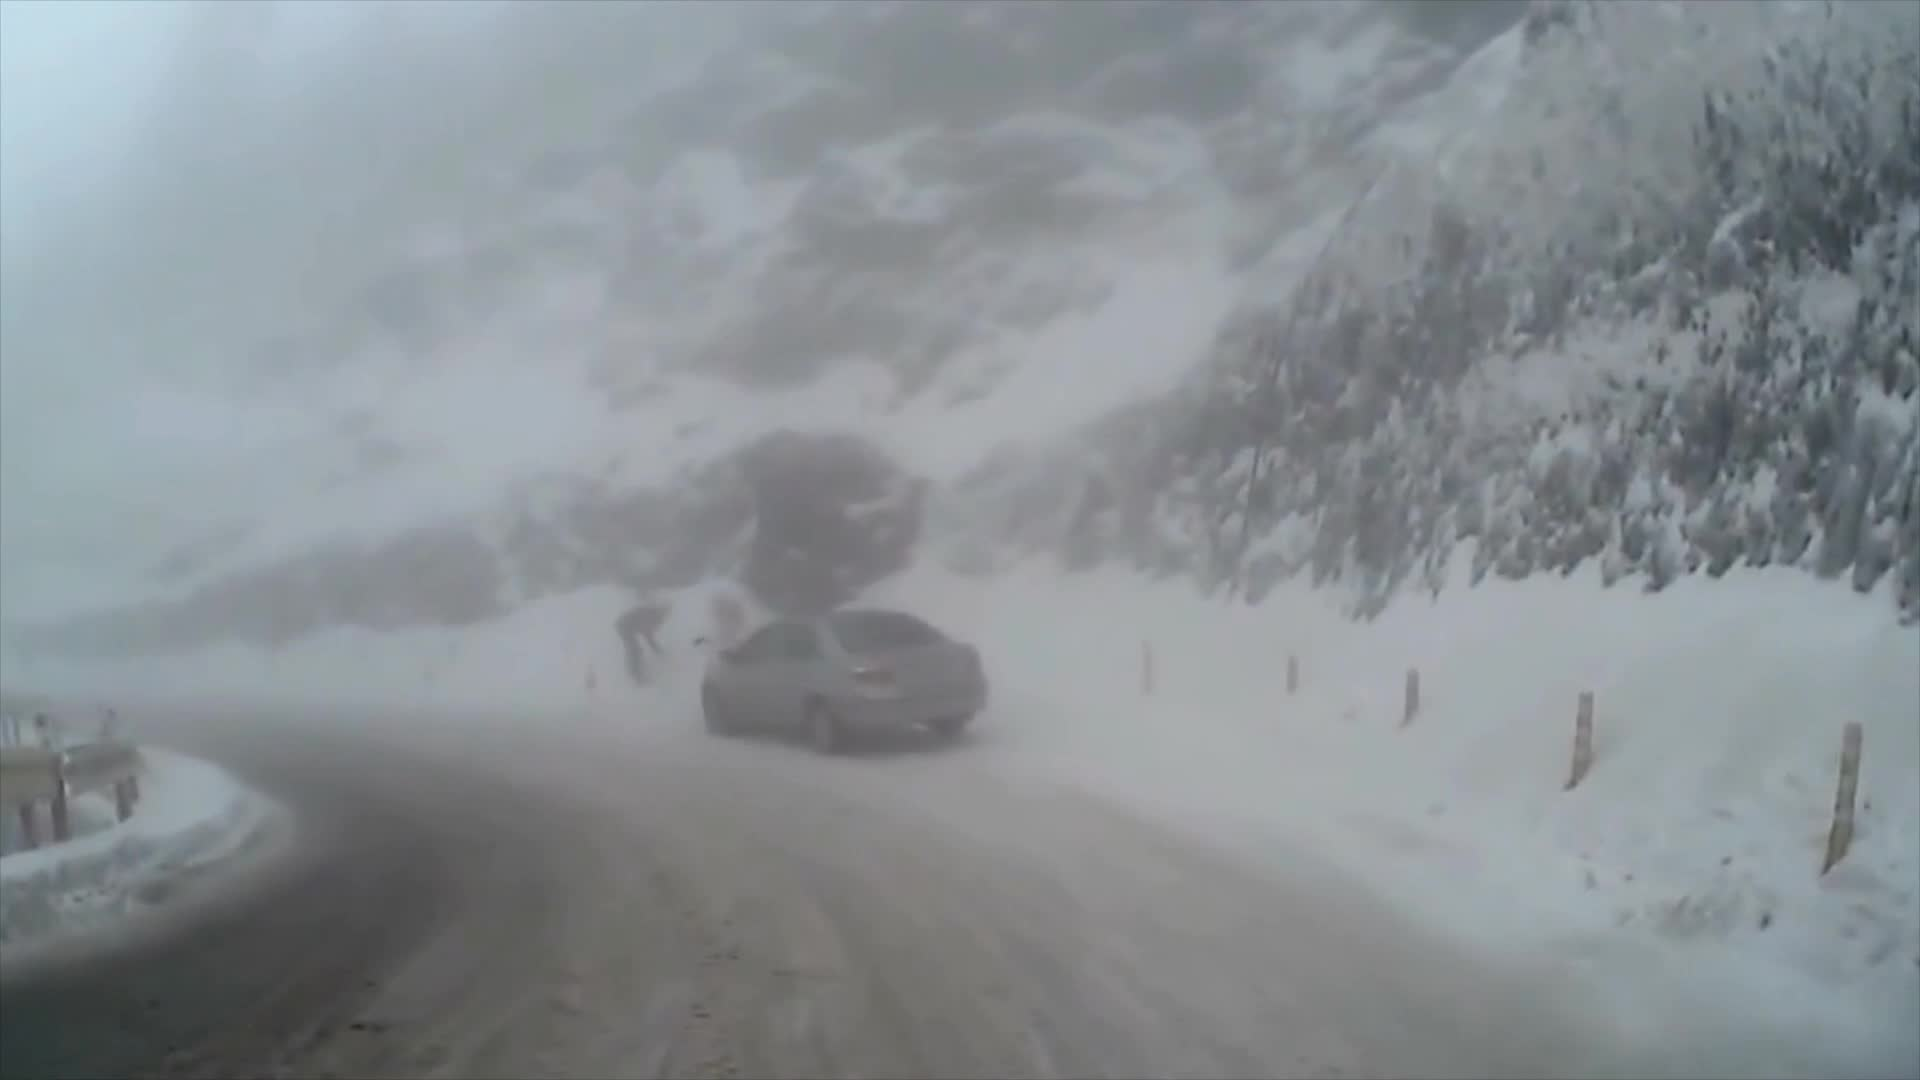pedestrian: (688, 596, 750, 718), (616, 604, 671, 688)
vehicle: (695, 607, 983, 756)
